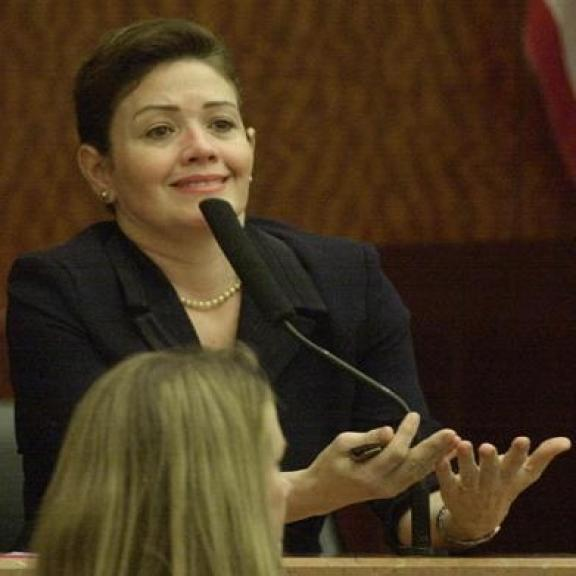face: (74, 60, 262, 228)
